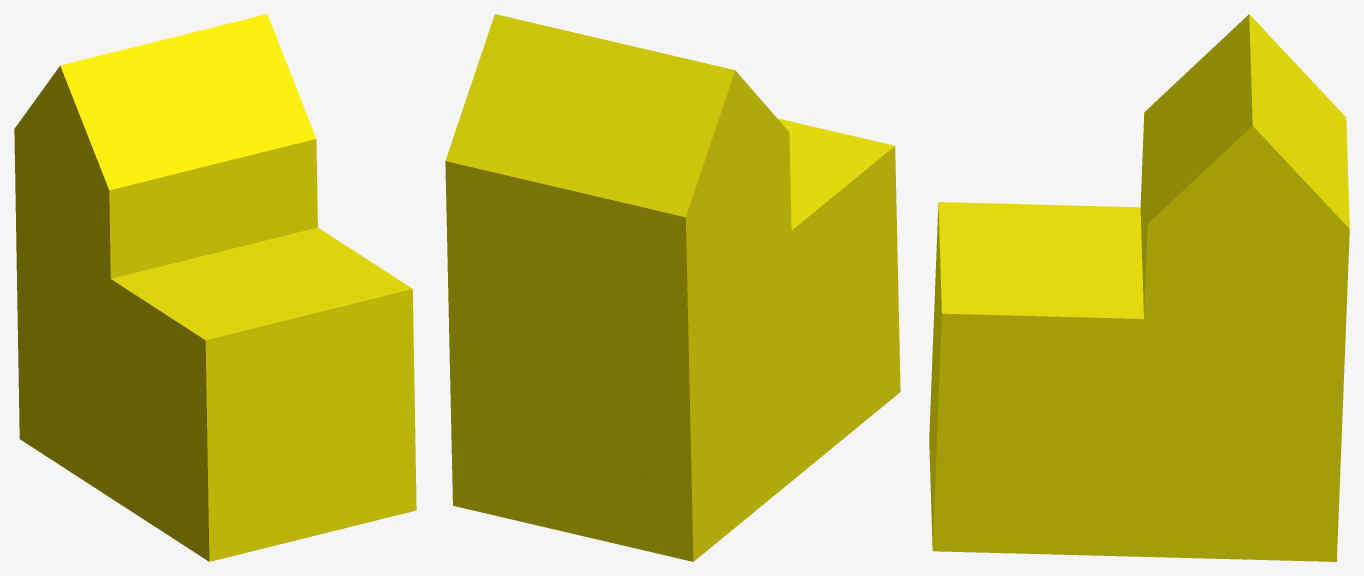
File: City_Yellow.fbx
3 renders of one model, left to right at view 1: azimuth 30°, elevation 25°; view 2: azimuth 150°, elevation 25°; view 3: azimuth 270°, elevation 25°, orthographic. The views are drawn at different scales.
Parts seen in each view (by area): view 1: node_id7; view 2: node_id7; view 3: node_id7.
Boxes of the visible parts, <box> form: node_id7: <box>14,14,416,561</box>; node_id7: <box>445,14,900,561</box>; node_id7: <box>929,14,1349,561</box>.
Bounding box in the file's own units: 0.138 × 0.2483 × 0.2161.
Materials: 1 (1 with a texture image).
